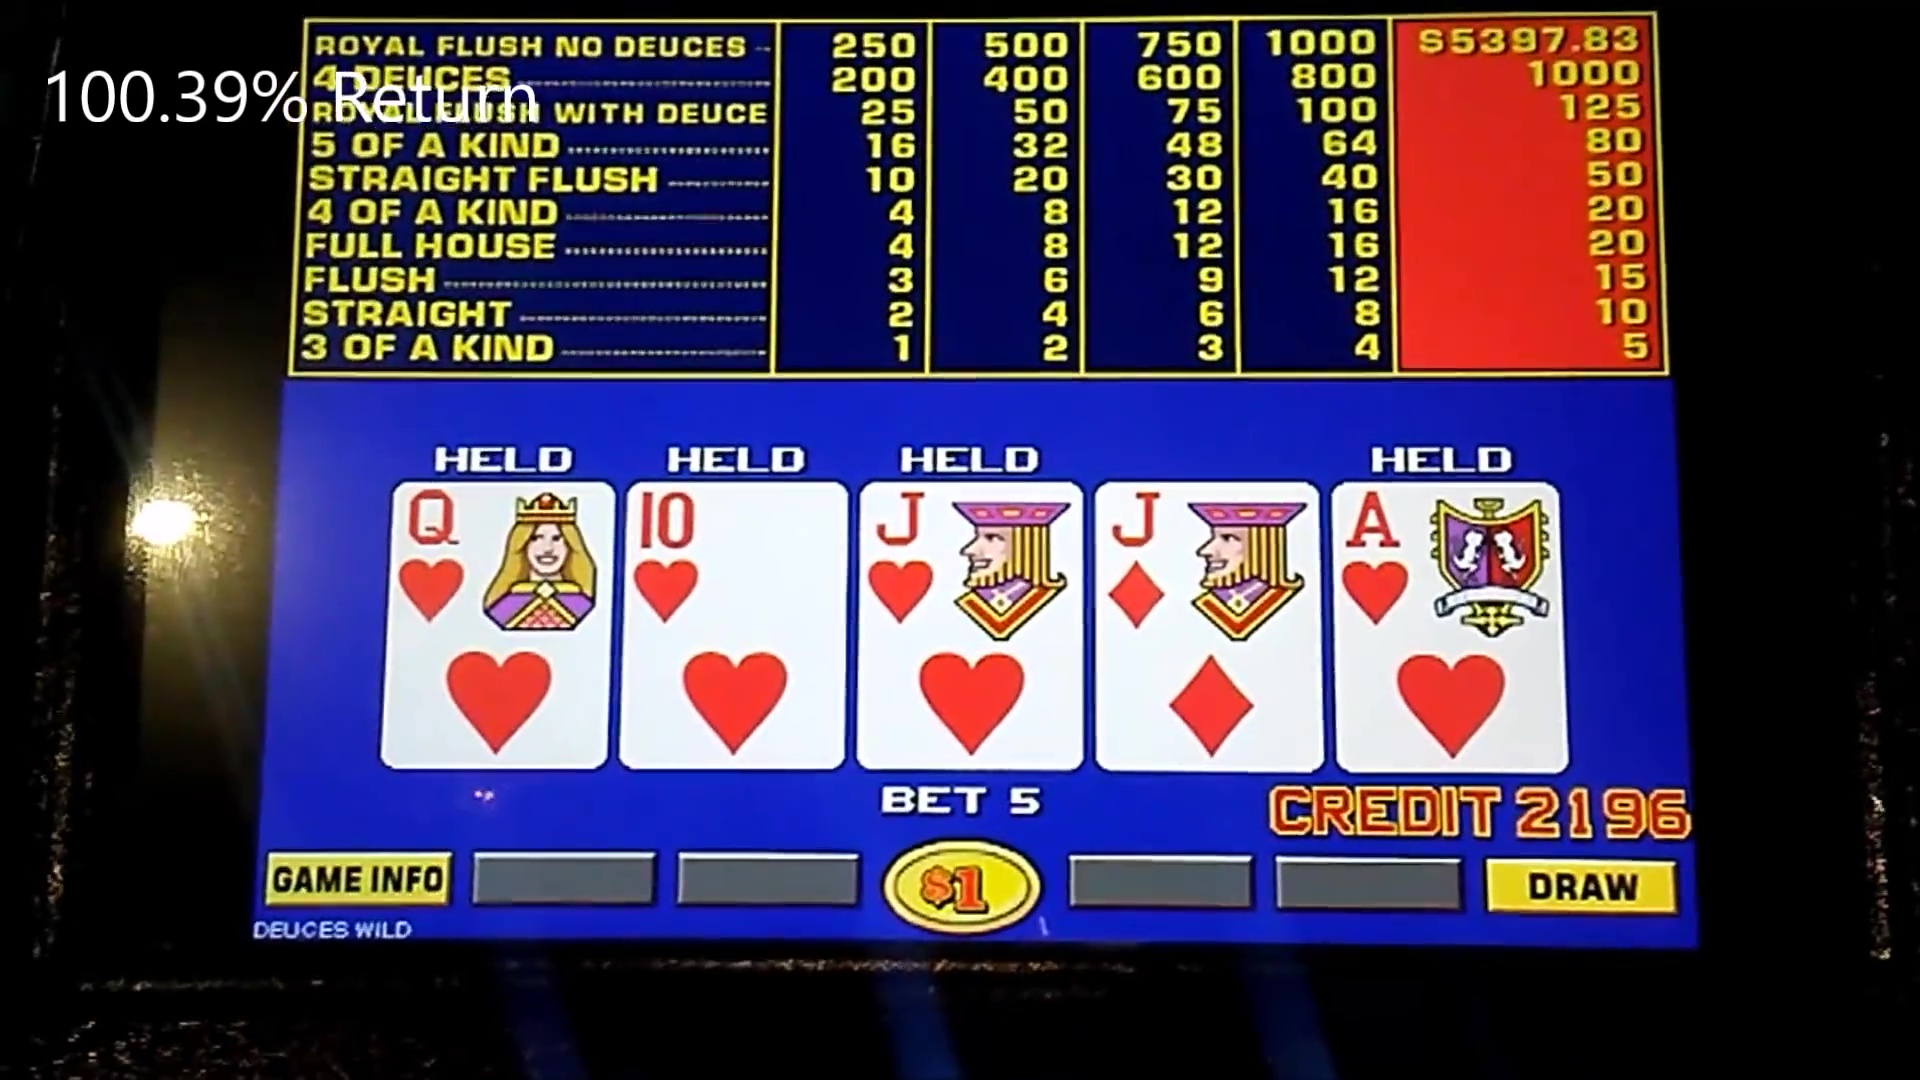DJ: (1092, 484, 1320, 626)
HA: (1328, 487, 1567, 628)
HJ: (861, 487, 1083, 626)
HQ: (390, 487, 616, 628)
HT: (624, 481, 847, 624)
